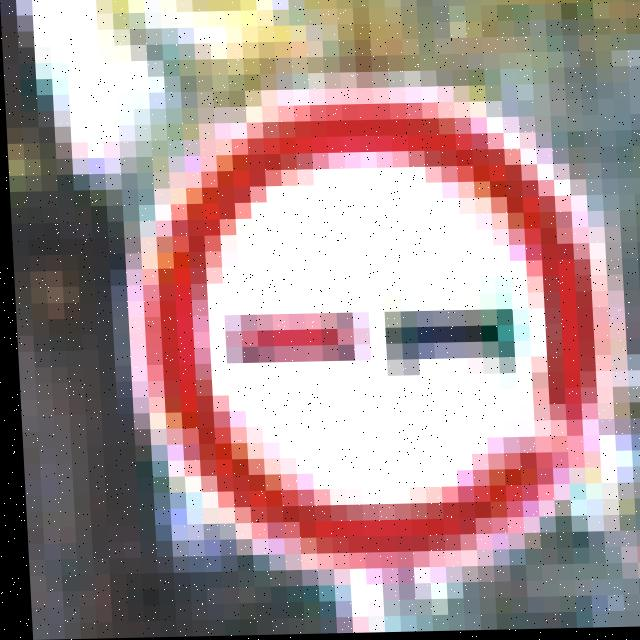no_overtaking: (127, 63, 631, 591)
